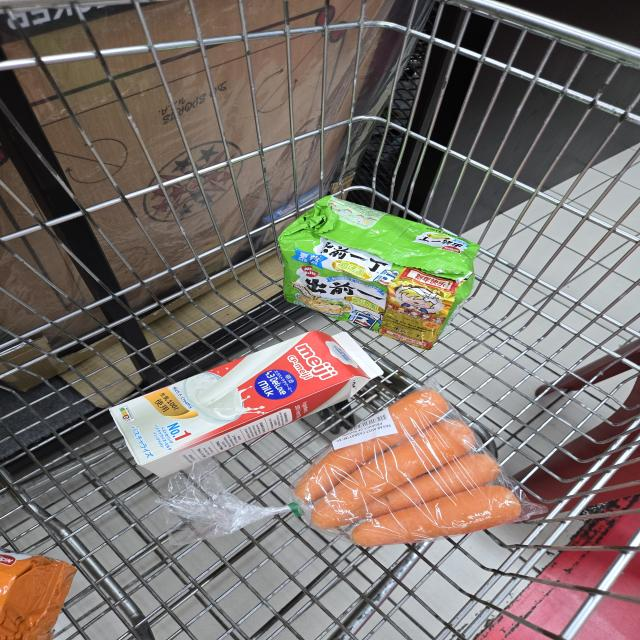carrot: (307, 417, 480, 531), (291, 389, 452, 504), (350, 484, 526, 550), (354, 450, 504, 521)
instant-noodle: (277, 193, 480, 351), (0, 553, 79, 640)
milk: (106, 331, 387, 479)
